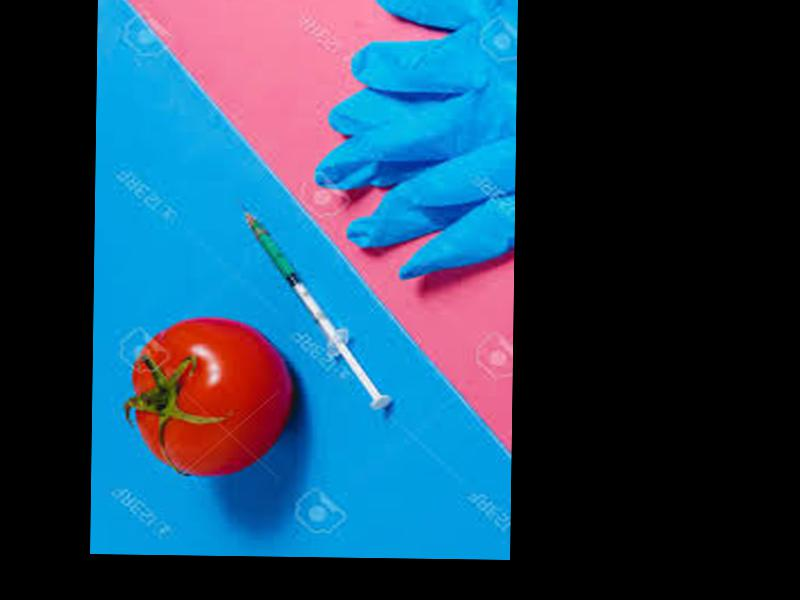Tomato: (132, 316, 295, 475)
